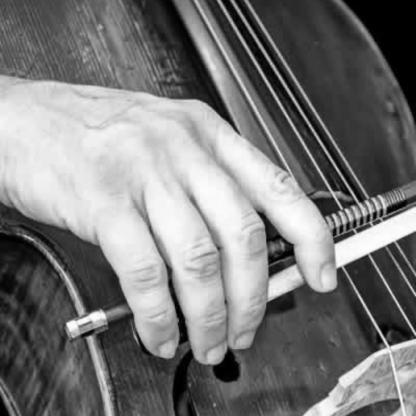good: (66, 86, 359, 363)
